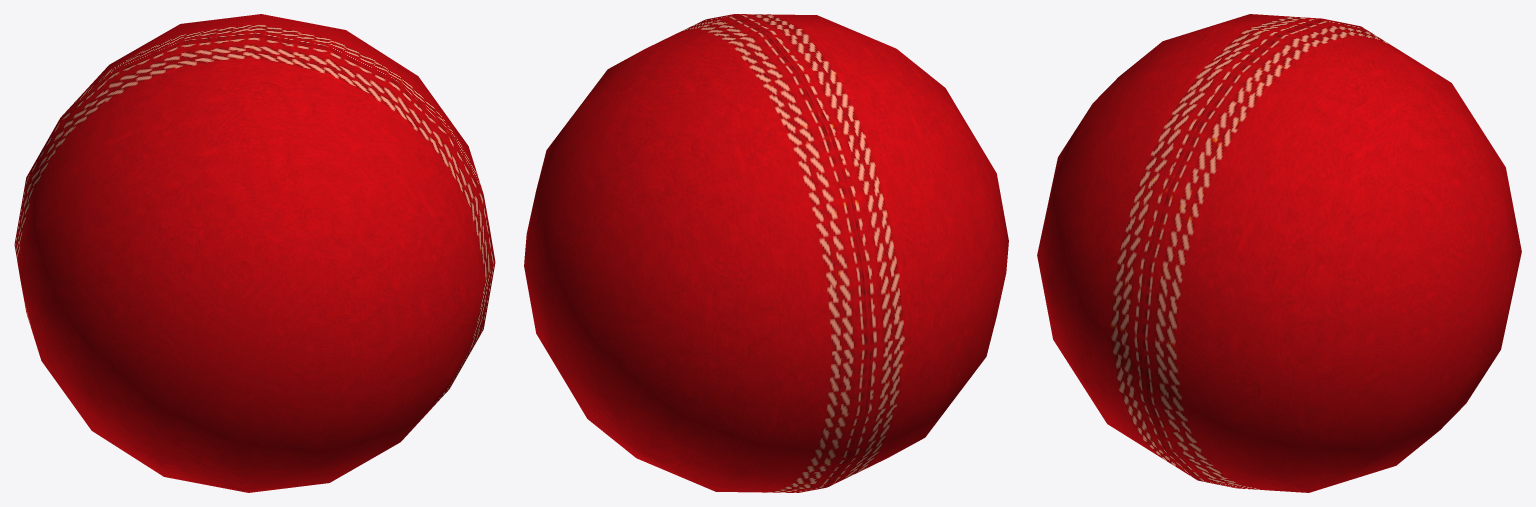
File: cricket_ball.FBX
3 renders of one model, left to right at view 1: azimuth 30°, elevation 25°; view 2: azimuth 150°, elevation 25°; view 3: azimuth 270°, elevation 25°, orthographic.
Parts seen in each view (by area): view 1: cricket_ball; view 2: cricket_ball; view 3: cricket_ball.
Part boxes in pixels (x1,y1,x2,y2): cricket_ball: [14, 14, 495, 492]; cricket_ball: [524, 14, 1008, 492]; cricket_ball: [1037, 14, 1521, 492].
Size of the model in its own units: 10 by 10 by 10.
